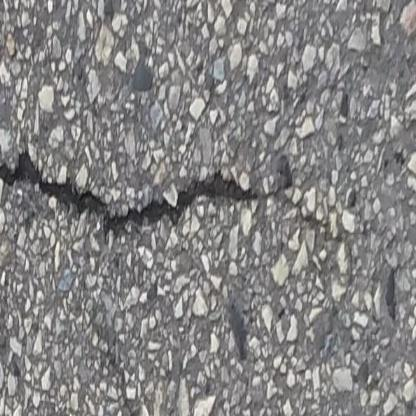Cracks: (0, 144, 270, 238)
